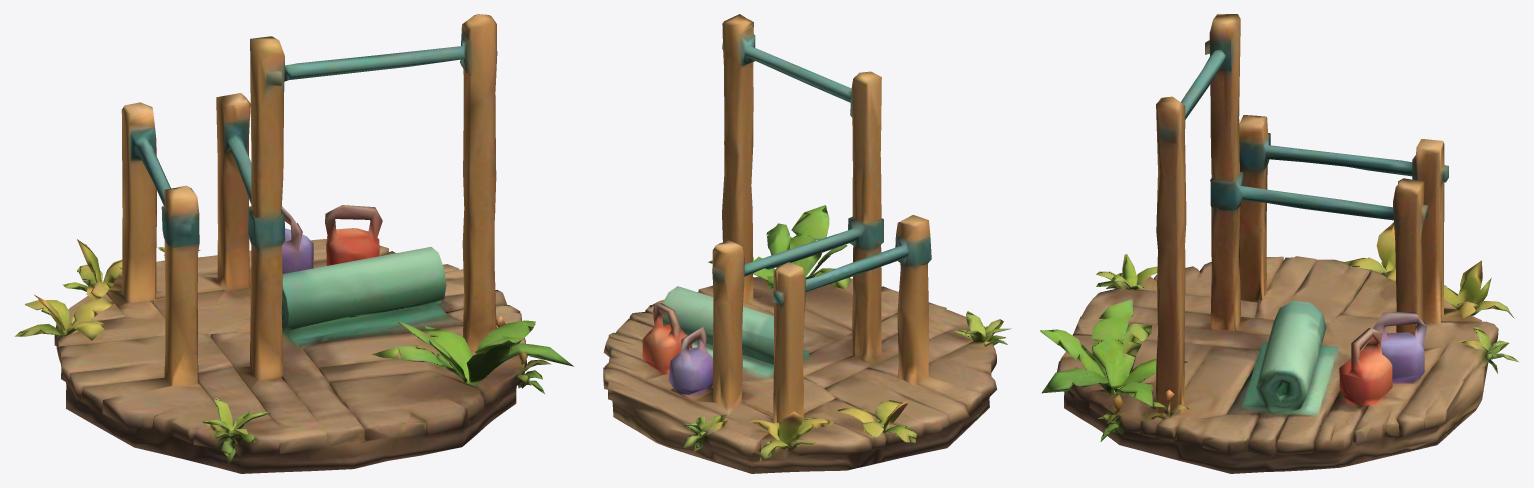
Rendered from act_workout.glb.
The picture shows the model from 3 angles, left to right: view 1: azimuth 30°, elevation 25°; view 2: azimuth 150°, elevation 25°; view 3: azimuth 270°, elevation 25°; orthographic projection. The views are drawn at different scales.
Parts seen in each view (by area): view 1: tripo_node_b3f149fb-9d58-492c-bace-d2b6f7a91e36; view 2: tripo_node_b3f149fb-9d58-492c-bace-d2b6f7a91e36; view 3: tripo_node_b3f149fb-9d58-492c-bace-d2b6f7a91e36.
Boxes of the visible parts, bbox=[...] form: tripo_node_b3f149fb-9d58-492c-bace-d2b6f7a91e36: bbox=[14, 14, 573, 473]; tripo_node_b3f149fb-9d58-492c-bace-d2b6f7a91e36: bbox=[603, 14, 1011, 473]; tripo_node_b3f149fb-9d58-492c-bace-d2b6f7a91e36: bbox=[1040, 14, 1518, 473].
Bounding box in the file's own units: 0.9264 × 0.7894 × 1.
1 material, 1 textured.
